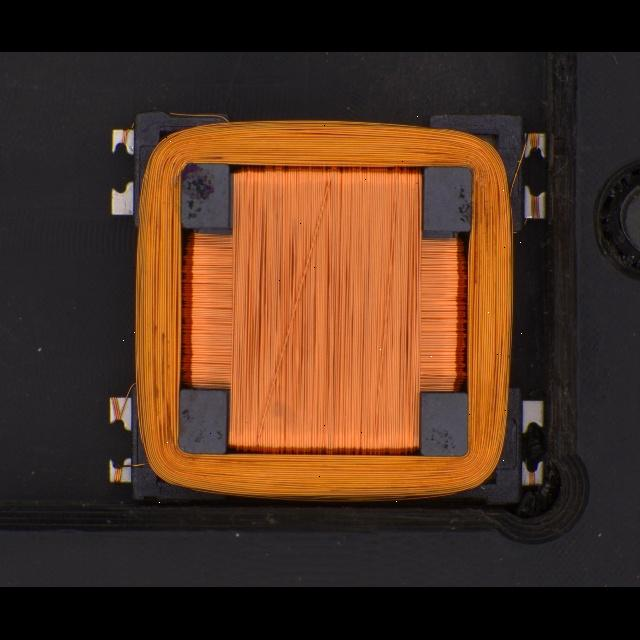Winding_Z: (123, 112, 523, 504)
